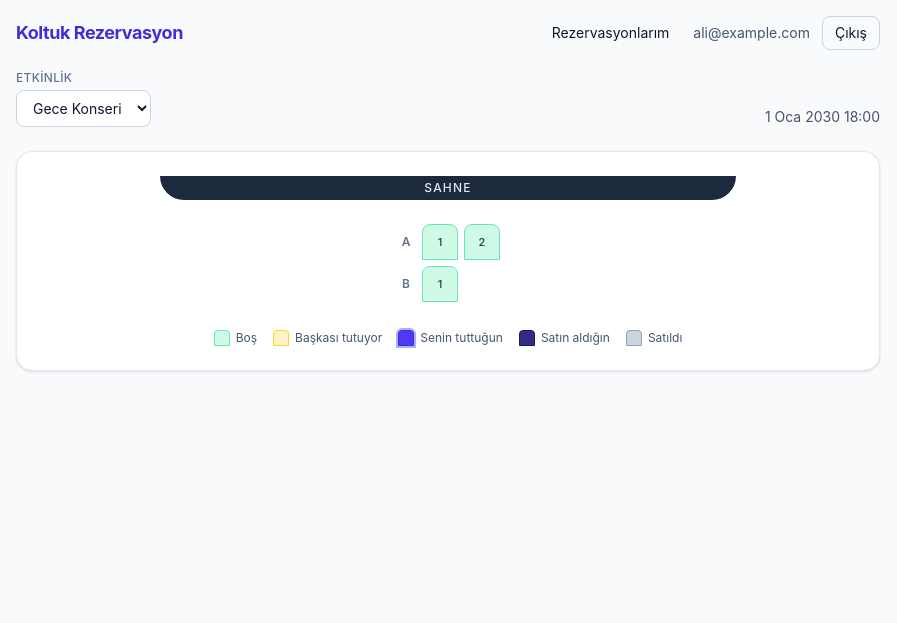
Test: koltuk tutma ve onaylama akışı › Rezervasyonlarım ekranı satın alınan koltuğu gösterir
This screenshot has width=897, height=623.
Click the button named "B1, boş".
click(440, 284)  # box [422,266,458,302]
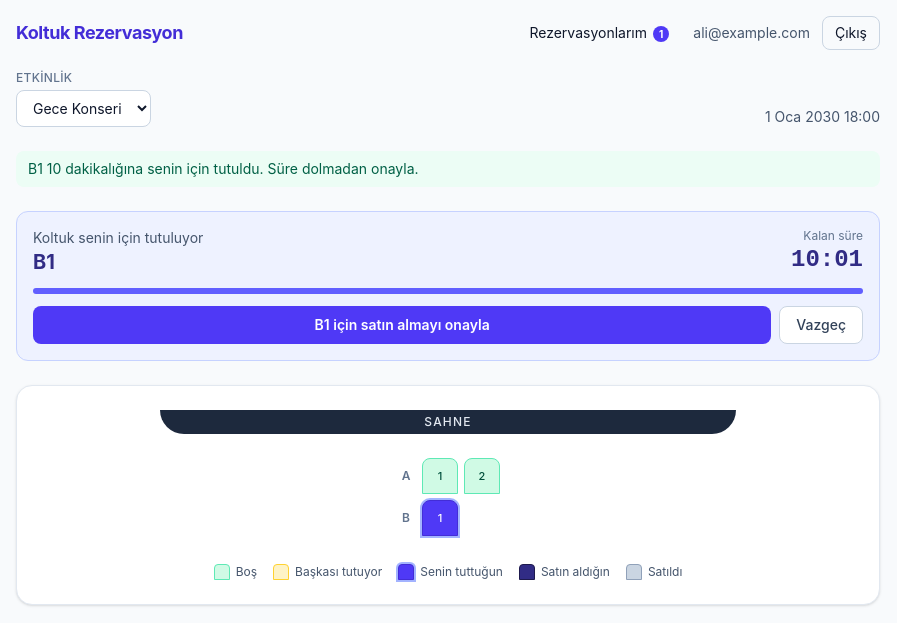
Click the button "B1 için satın almayı onayla".
click(402, 325)  # box [33,306,771,344]
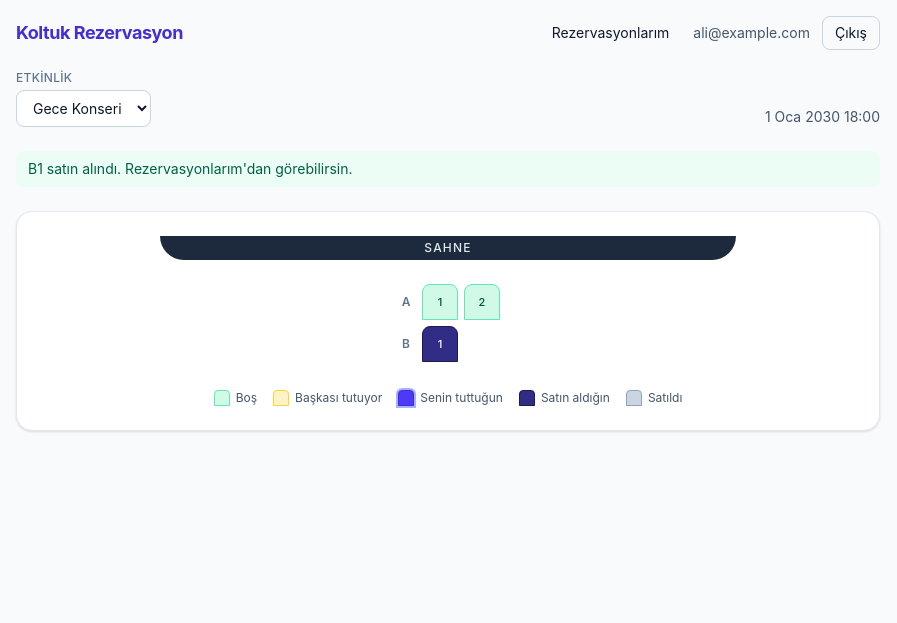
expect the button named "B1, senin koltuğun" is shown: met, box [422,326,458,362]
Click the button "Rezervasyonlarım".
click(610, 33)  # box [540,17,681,49]
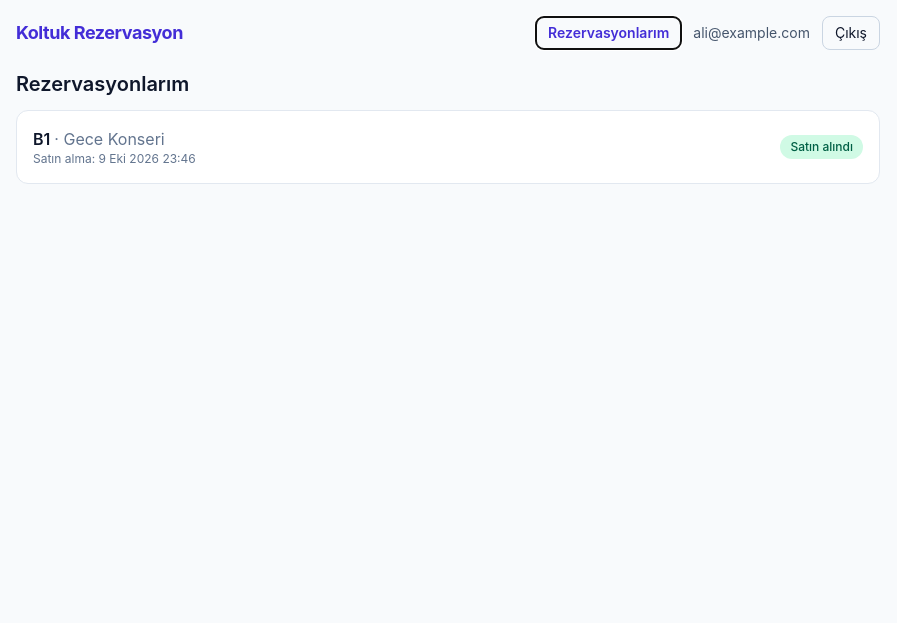
expect the text "Satın alındı" is shown: met, box [780,135,863,159]
expect the text "B1 · Gece Konseri" is shown: met, box [33,129,165,149]
